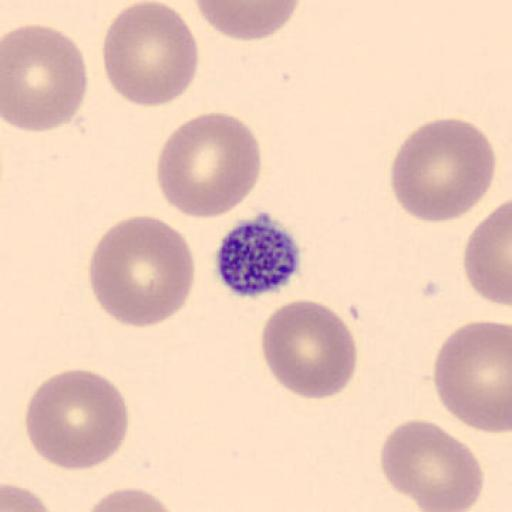Platelet: (211, 212, 304, 299)
RBC: (87, 214, 197, 330), (154, 110, 262, 220), (389, 116, 497, 225), (23, 366, 129, 472), (100, 0, 200, 109), (260, 298, 359, 400), (379, 417, 484, 512), (2, 23, 89, 134), (434, 319, 512, 434), (462, 198, 512, 308), (192, 0, 301, 42), (82, 486, 180, 512), (2, 479, 57, 512)
